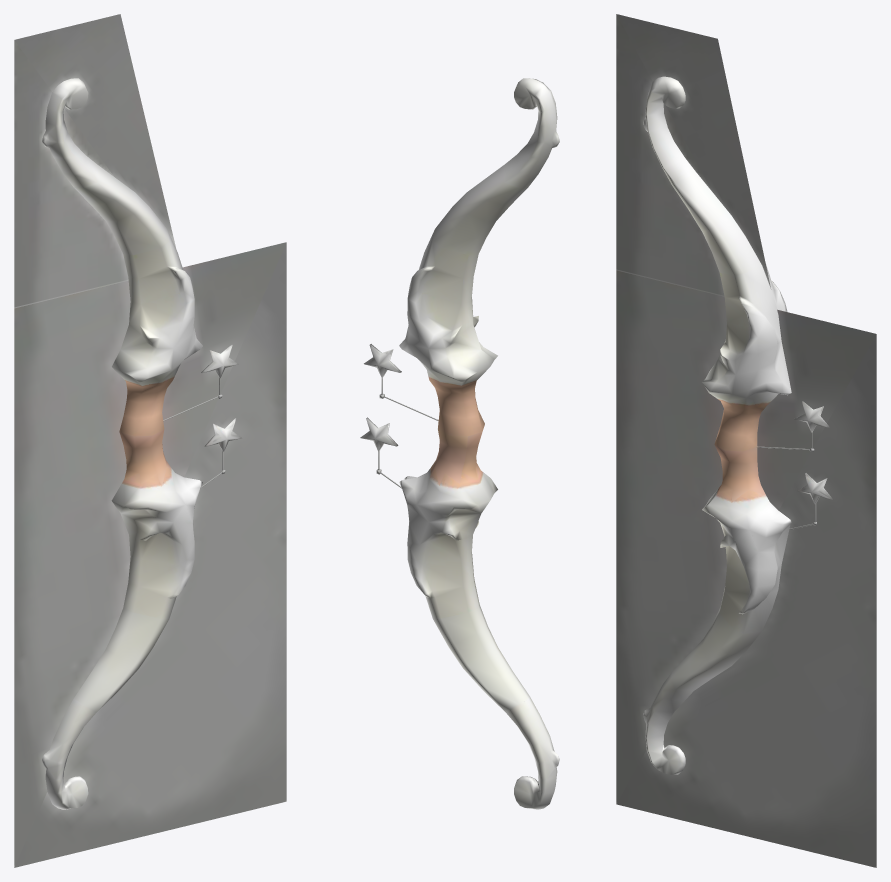
Rendered from encore_the_second_falling_star.glb.
3 views of the same model, side by side, from view 1: azimuth 30°, elevation 25°; view 2: azimuth 150°, elevation 25°; view 3: azimuth 330°, elevation 25° (orthographic). The views are drawn at different scales.
Visible parts, largest first — view 1: tripo_node_56b6ecc7-5ac6-46f6-9d70-d0c0816a376f; view 2: tripo_node_56b6ecc7-5ac6-46f6-9d70-d0c0816a376f; view 3: tripo_node_56b6ecc7-5ac6-46f6-9d70-d0c0816a376f.
Boxes of the visible parts, bbox=[...] form: tripo_node_56b6ecc7-5ac6-46f6-9d70-d0c0816a376f: bbox=[14, 14, 286, 867]; tripo_node_56b6ecc7-5ac6-46f6-9d70-d0c0816a376f: bbox=[360, 78, 559, 809]; tripo_node_56b6ecc7-5ac6-46f6-9d70-d0c0816a376f: bbox=[616, 14, 876, 867].
Bounding box in the file's own units: 0.4822 × 1.4 × 0.1115.
Materials: 1 (1 with a texture image).
